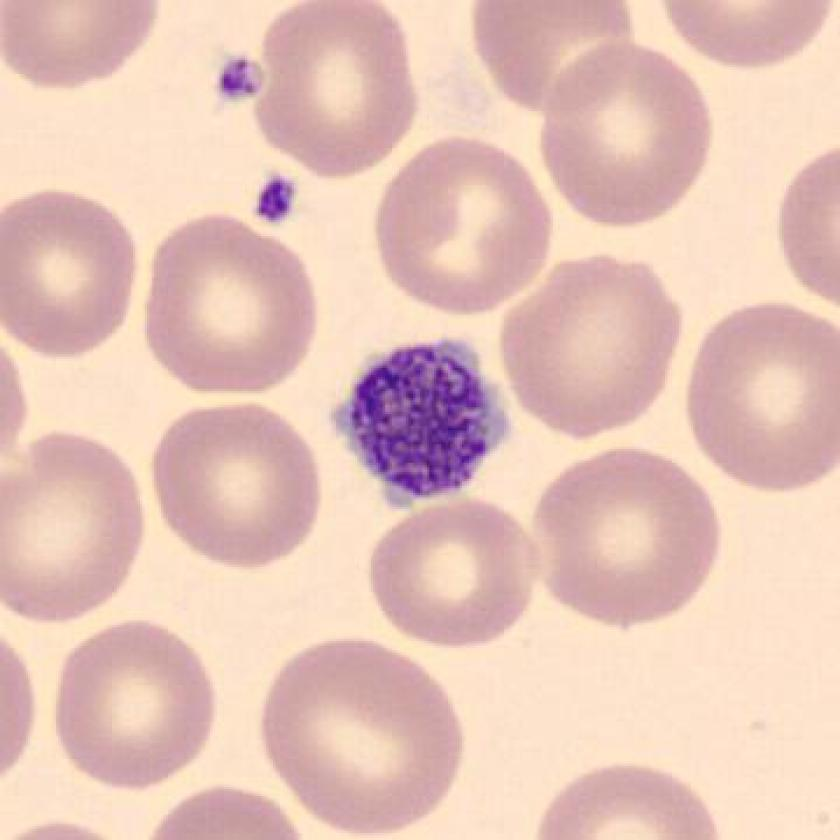platelets: (335, 332, 514, 505), (204, 47, 267, 119), (251, 161, 304, 230)
